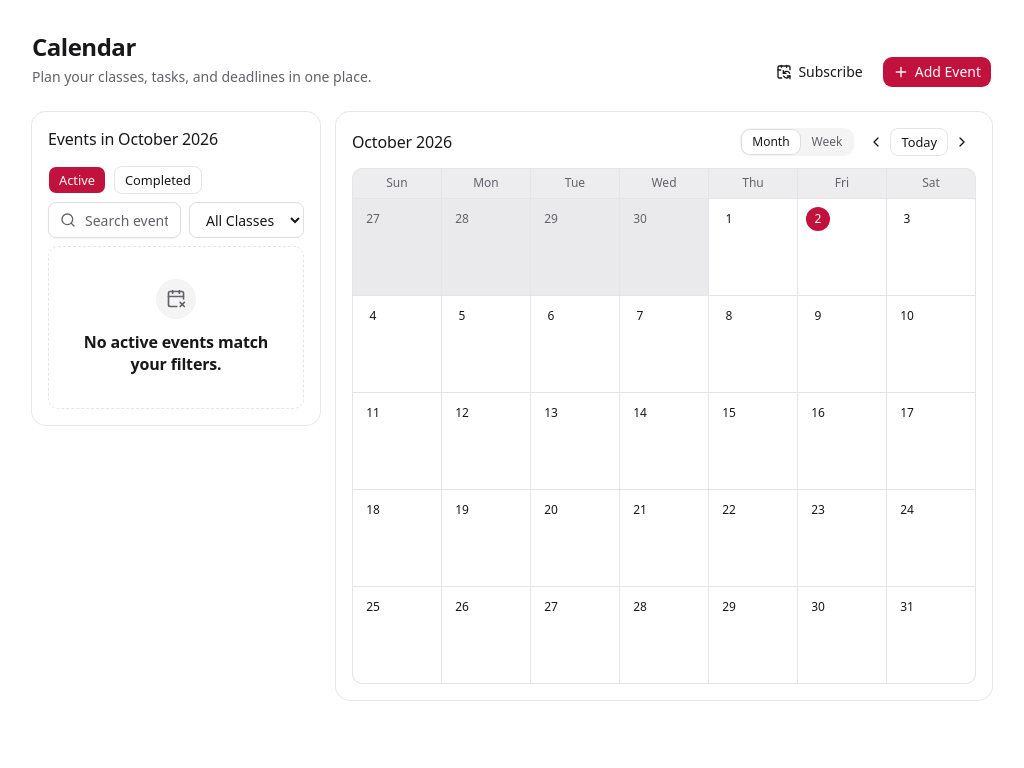
Test: CalendarPage › adds an event through the form and lists it
Step 1. Click the button "Add Event" → [937, 72], box [882,56,992,88]
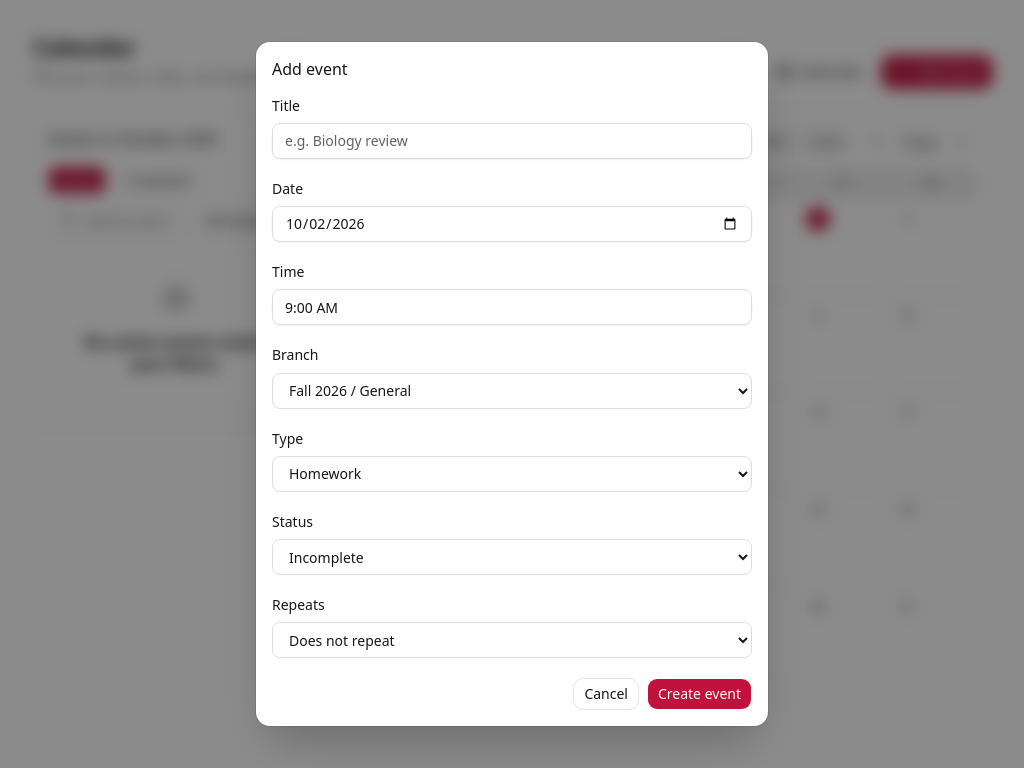
Step 2. Type "Study group" into the field labelled "Title" → [512, 141], box [272,123,752,159]
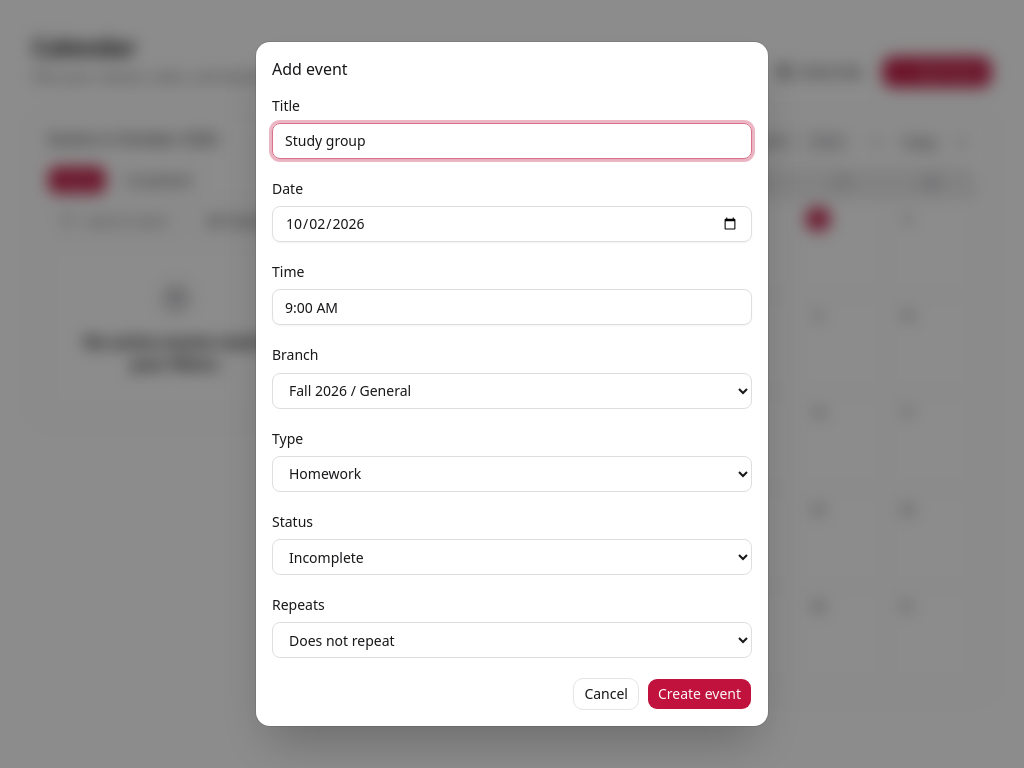
Step 3. Click the button "Create event" → [700, 694], box [647,678,752,710]
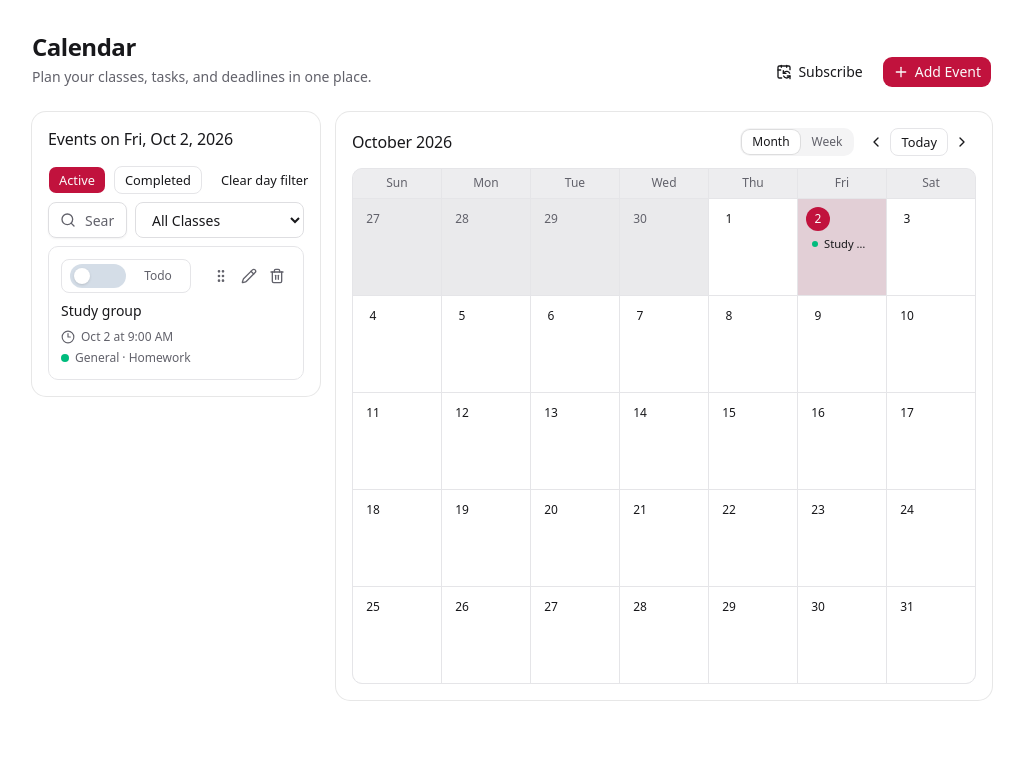
Expected: the text "Study group" is shown 2 times, [61,301,142,320]; [824,237,872,251]
Expected: the button "Create event" is gone
